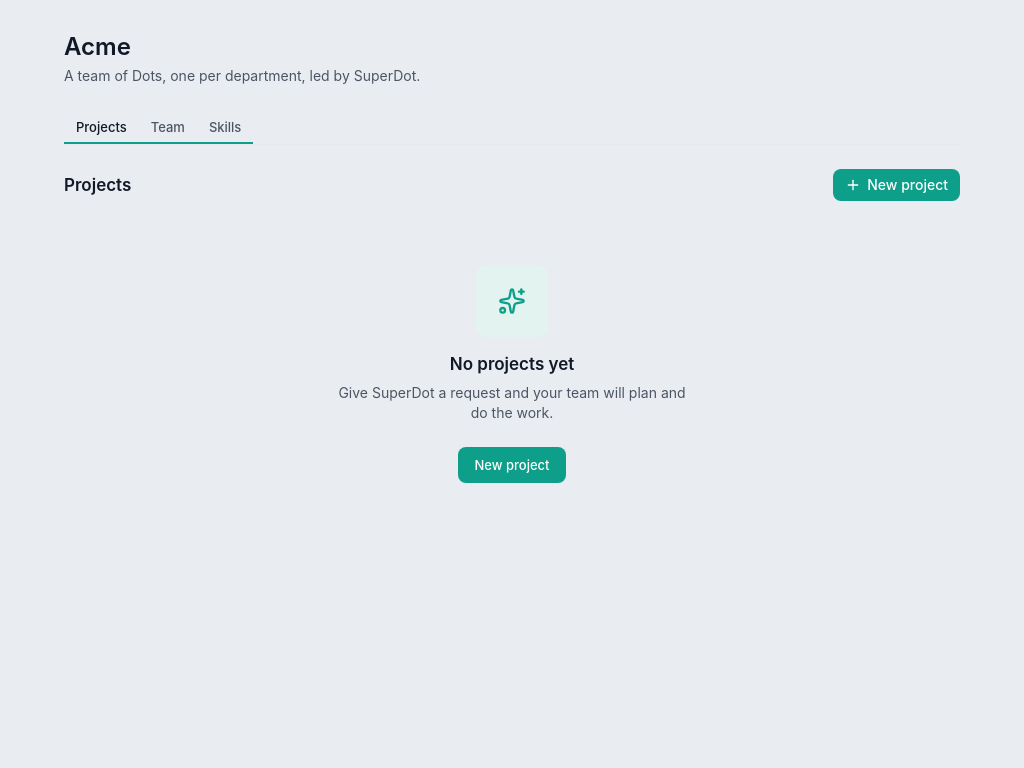
Scenario: projects › rejects a bad budget
Click the 1st button "New project". click: (897, 185)
box: x1=833 y1=169 x2=960 y2=201
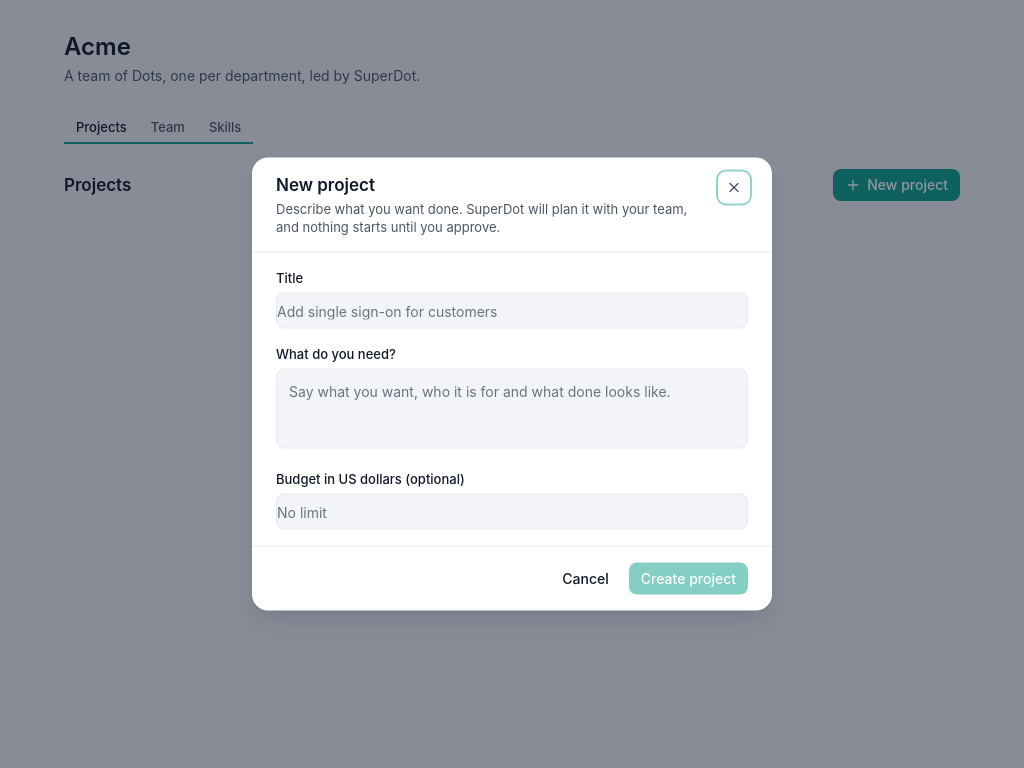
Type "Launch" into the field labelled "Title". click: (512, 310)
box: x1=276 y1=292 x2=748 y2=328
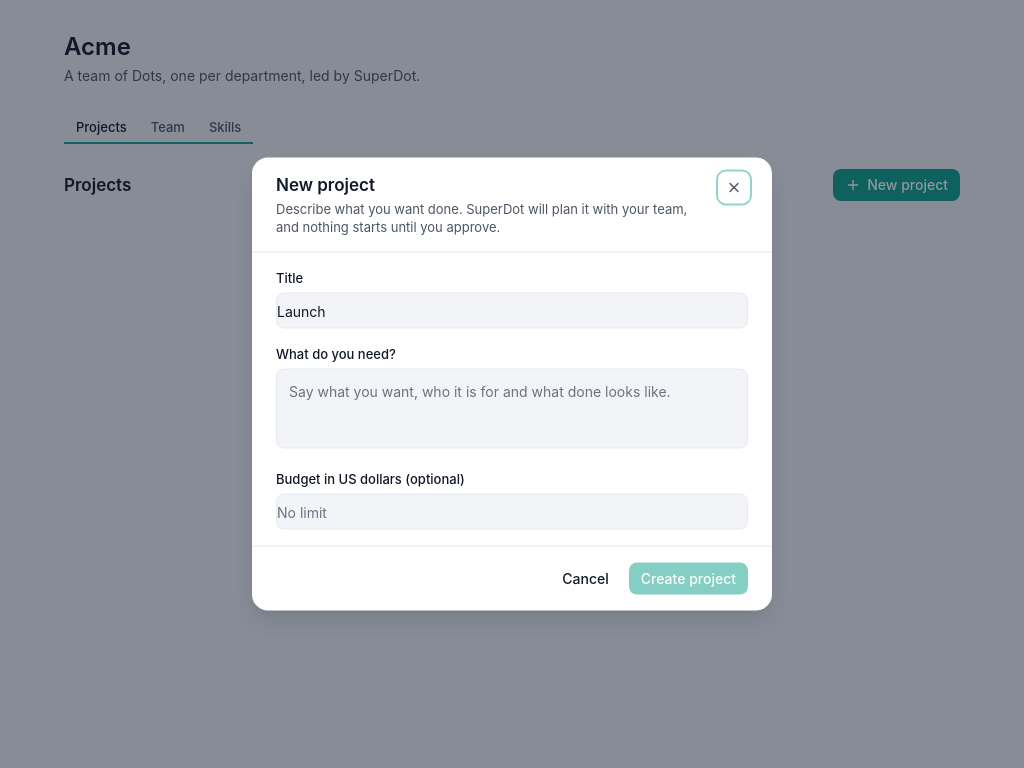
Type "Launch it" into the text box labelled "What do you need?". click: (512, 408)
box: x1=276 y1=368 x2=748 y2=448
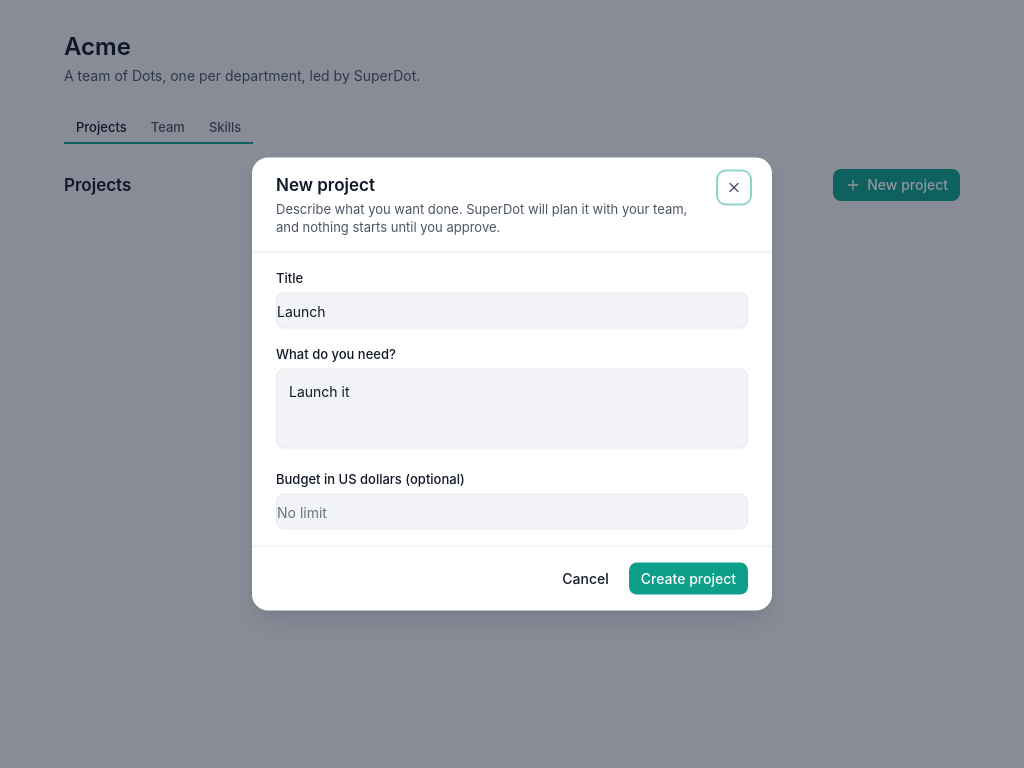
Type "abc" into the field labelled "Budget in US dollars (optional)". click: (512, 512)
box: x1=276 y1=494 x2=748 y2=530
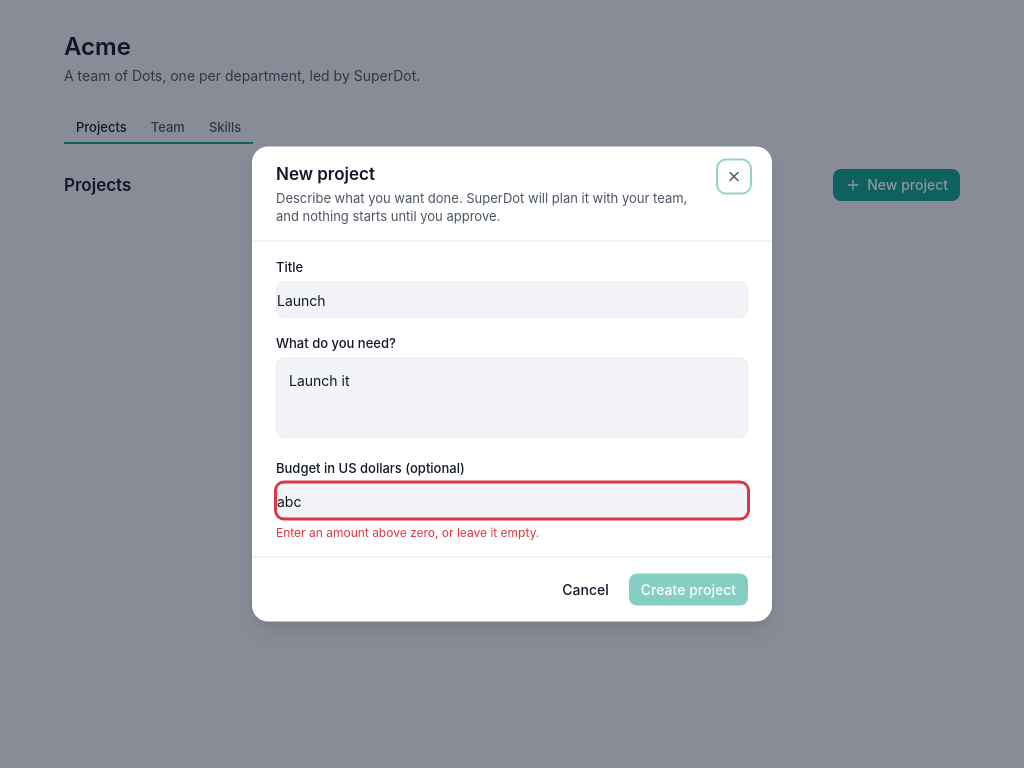
Now the button "Create project" is disabled, box x1=629 y1=574 x2=748 y2=606
